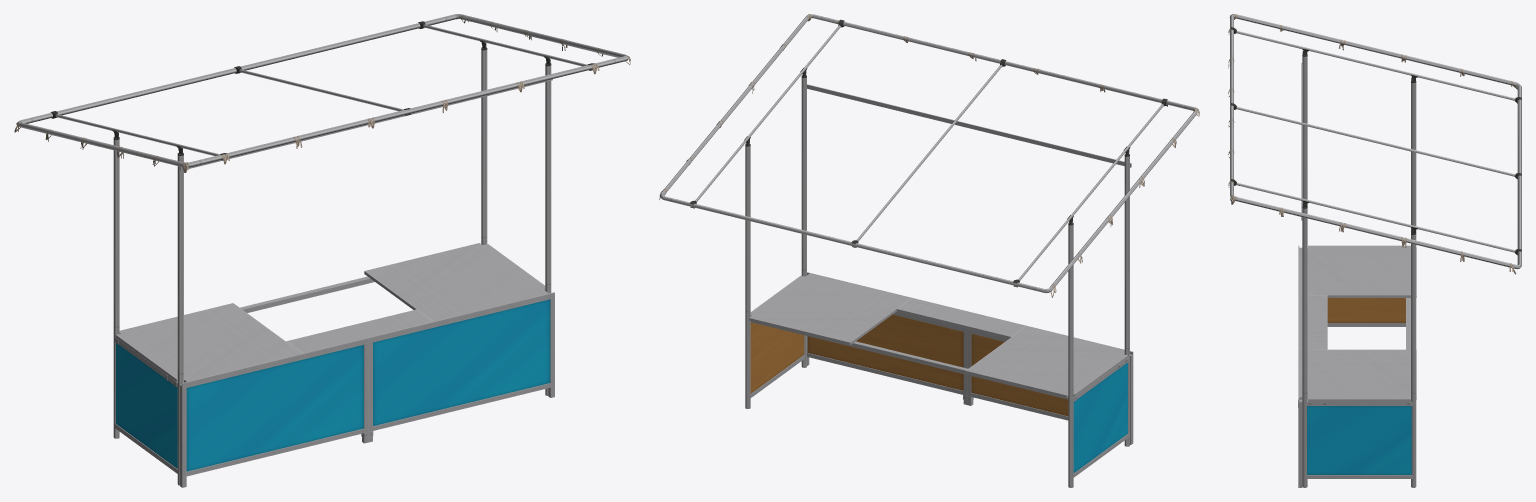
The model's file is jsf_4P_s03_c02_t02.fbx.
3 views of the same model, side by side, from view 1: azimuth 30°, elevation 25°; view 2: azimuth 150°, elevation 25°; view 3: azimuth 270°, elevation 25° (orthographic). The views are drawn at different scales.
Visible parts, largest first — view 1: Base_s03_c02, Table_4P_s03_t02, Pillar4_s03, Rope_4P_s03; view 2: Base_s03_c02, Table_4P_s03_t02, Pillar4_s03; view 3: Table_4P_s03_t02, Pillar4_s03, Base_s03_c02, Rope_4P_s03.
Part boxes in pixels (x1=…): Base_s03_c02: x1=114, y1=292, x2=554, y2=487; Table_4P_s03_t02: x1=115, y1=243, x2=548, y2=386; Pillar4_s03: x1=16, y1=14, x2=628, y2=485; Rope_4P_s03: x1=14, y1=14, x2=630, y2=172; Base_s03_c02: x1=750, y1=272, x2=1133, y2=477; Table_4P_s03_t02: x1=749, y1=273, x2=1128, y2=400; Pillar4_s03: x1=659, y1=14, x2=1198, y2=487; Table_4P_s03_t02: x1=1299, y1=245, x2=1416, y2=405; Pillar4_s03: x1=1230, y1=14, x2=1521, y2=487; Base_s03_c02: x1=1298, y1=245, x2=1412, y2=487; Rope_4P_s03: x1=1228, y1=14, x2=1517, y2=274.
Bounding box in the file's own units: 316 × 243 × 211.
